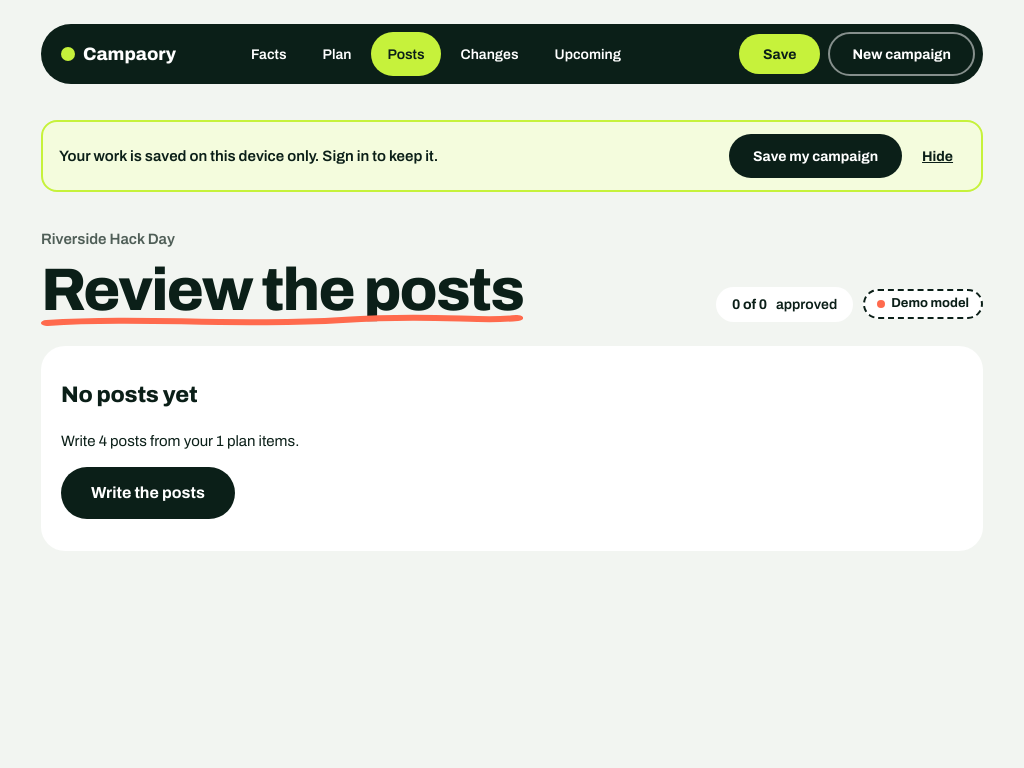
Scenario: posts › a rate limit shows the retry time and keeps the campaign
Step 1. Click the button "Write the posts" → [148, 493], box [61, 467, 235, 519]
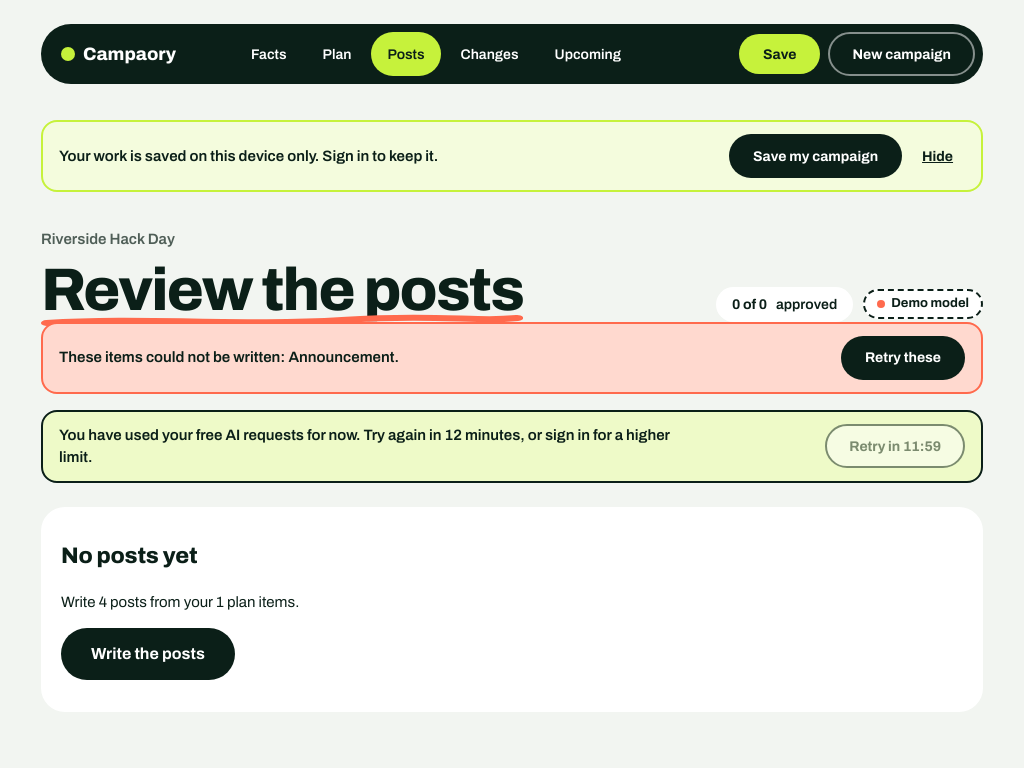
Result: the text "Try again in 12 minutes, or sign in for a higher limit" is shown at [59, 426, 670, 465]
